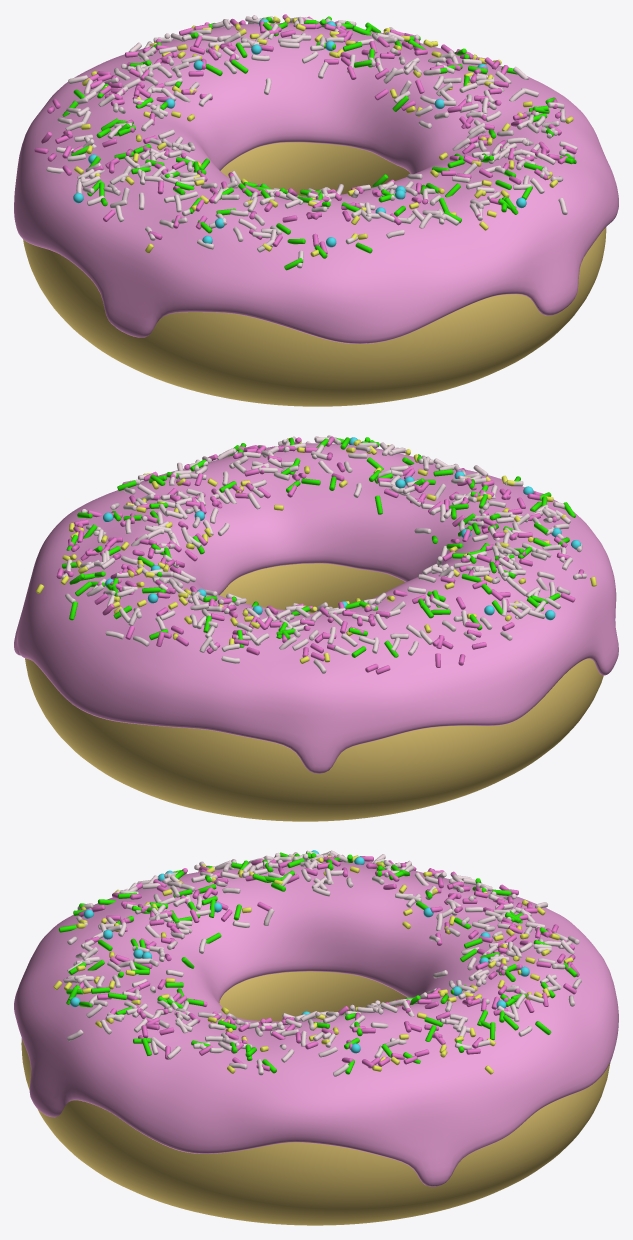
Rendered from Donut.fbx.
3 renders of one model, top to bottom at view 1: azimuth 30°, elevation 25°; view 2: azimuth 150°, elevation 25°; view 3: azimuth 270°, elevation 25°, orthographic. The views are drawn at different scales.
Parts seen in each view (by area): view 1: Icing, Donut; view 2: Icing, Donut; view 3: Icing, Donut.
Boxes of the visible parts, x1,y1,x2,y2 form: Icing: [14, 23, 618, 343]; Donut: [23, 142, 606, 406]; Icing: [14, 443, 618, 773]; Donut: [25, 563, 603, 821]; Icing: [14, 858, 618, 1186]; Donut: [21, 971, 610, 1225].
Size of the model in its own units: 14.06 by 5.27 by 14.59.
